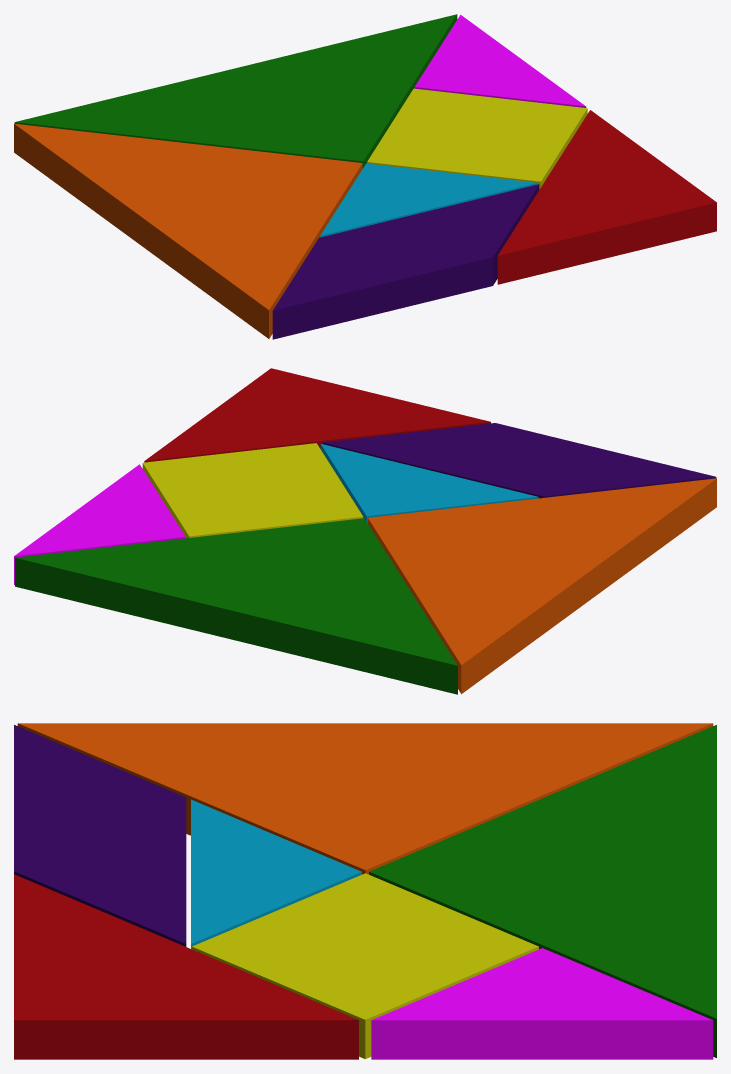
The model's file is Tangram.fbx.
3 renders of one model, top to bottom at view 1: azimuth 30°, elevation 25°; view 2: azimuth 150°, elevation 25°; view 3: azimuth 270°, elevation 25°, orthographic. The views are drawn at different scales.
Visible parts, largest first — view 1: Curve.003, Curve.001, Curve.007, Curve.006, Curve.004, Curve.005, Curve.002; view 2: Curve.001, Curve.003, Curve.007, Curve.004, Curve.006, Curve.005, Curve.002; view 3: Curve.003, Curve.001, Curve.006, Curve.004, Curve.002, Curve.007, Curve.005.
Part boxes in pixels (bbox=[...]): Curve.003: bbox=[14, 123, 362, 338]; Curve.001: bbox=[14, 14, 457, 168]; Curve.007: bbox=[272, 184, 539, 339]; Curve.006: bbox=[497, 110, 716, 284]; Curve.004: bbox=[367, 88, 587, 189]; Curve.005: bbox=[320, 163, 537, 237]; Curve.002: bbox=[414, 14, 586, 107]; Curve.001: bbox=[15, 518, 457, 694]; Curve.003: bbox=[368, 478, 716, 693]; Curve.007: bbox=[322, 423, 716, 498]; Curve.004: bbox=[142, 443, 363, 538]; Curve.006: bbox=[144, 368, 490, 462]; Curve.005: bbox=[320, 444, 538, 523]; Curve.002: bbox=[14, 464, 185, 584]; Curve.003: bbox=[17, 723, 713, 874]; Curve.001: bbox=[369, 725, 716, 1057]; Curve.006: bbox=[14, 874, 358, 1059]; Curve.004: bbox=[192, 873, 538, 1059]; Curve.002: bbox=[371, 948, 713, 1059]; Curve.007: bbox=[14, 725, 186, 946]; Curve.005: bbox=[191, 799, 361, 949].
Bounding box in the file's own units: 486 × 30.06 × 486.
